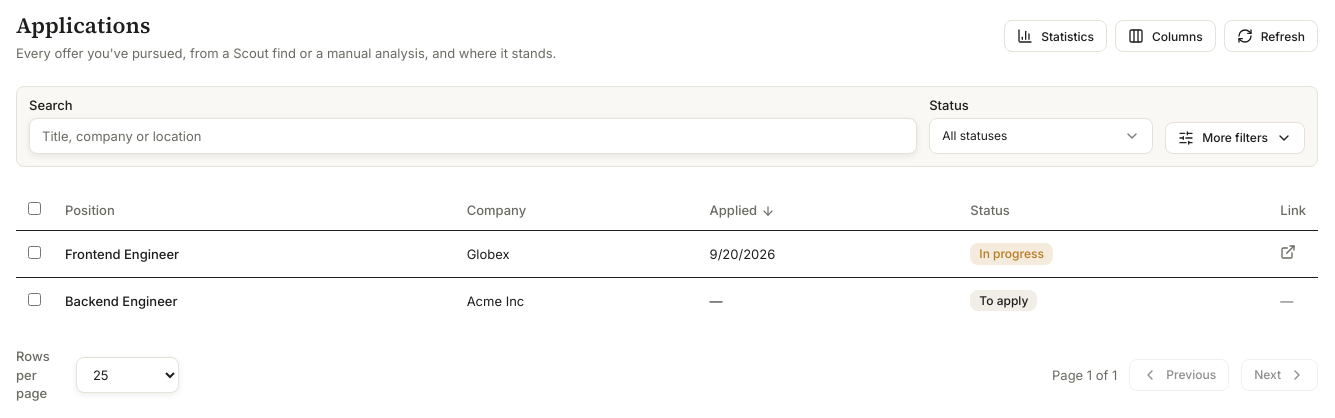
Test: ApplicationsPage — table (#236) › narrows the rows by search and writes q to the URL
expect the text "Frontend Engineer" is shown: met, box [53, 231, 455, 277]
Type "globex" into the search field labelled "Search" at point(473, 136), box [29, 118, 917, 154]
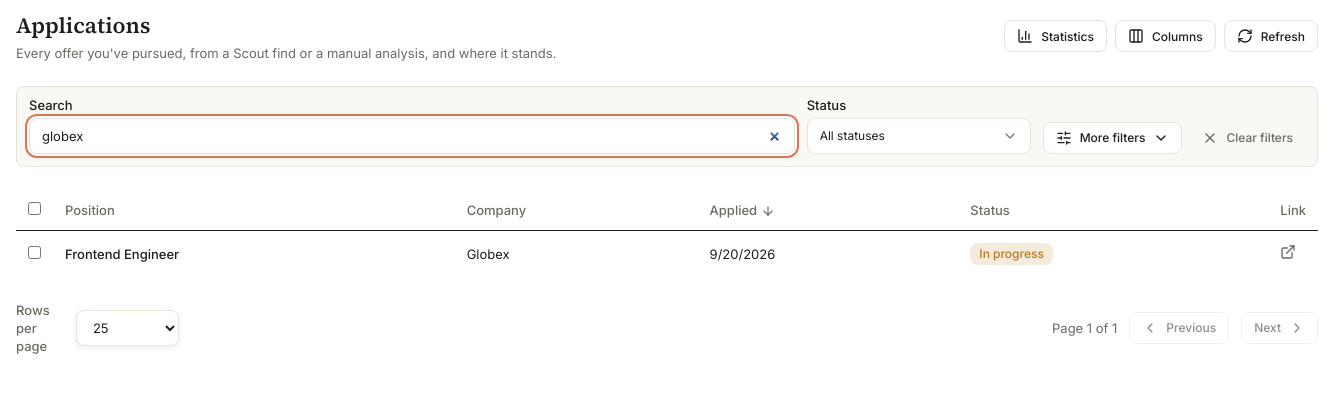
expect the text "Frontend Engineer" is shown: met, box [53, 231, 455, 277]
expect the text "Backend Engineer" is gone: met
